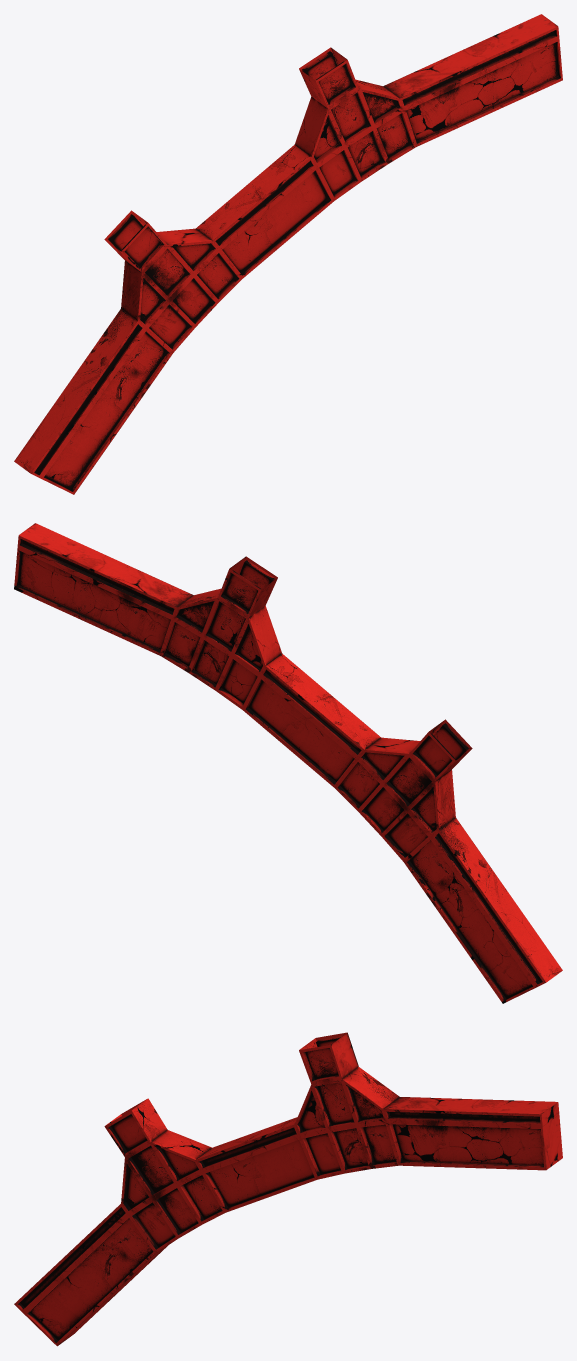
File: Blame_Hall_Beams_Curved2.fbx
The picture shows the model from 3 angles, top to bottom: view 1: azimuth 30°, elevation 25°; view 2: azimuth 150°, elevation 25°; view 3: azimuth 330°, elevation 25°; orthographic projection.
Visible parts, largest first — view 1: mod_curved_beam.001; view 2: mod_curved_beam.001; view 3: mod_curved_beam.001.
Boxes of the visible parts, x1=… form: mod_curved_beam.001: x1=14, y1=14, x2=562, y2=494; mod_curved_beam.001: x1=14, y1=523, x2=562, y2=1003; mod_curved_beam.001: x1=14, y1=1032, x2=562, y2=1346.
Bounding box in the file's own units: 2739 × 1813 × 150.
Materials: 1 (1 with a texture image).
